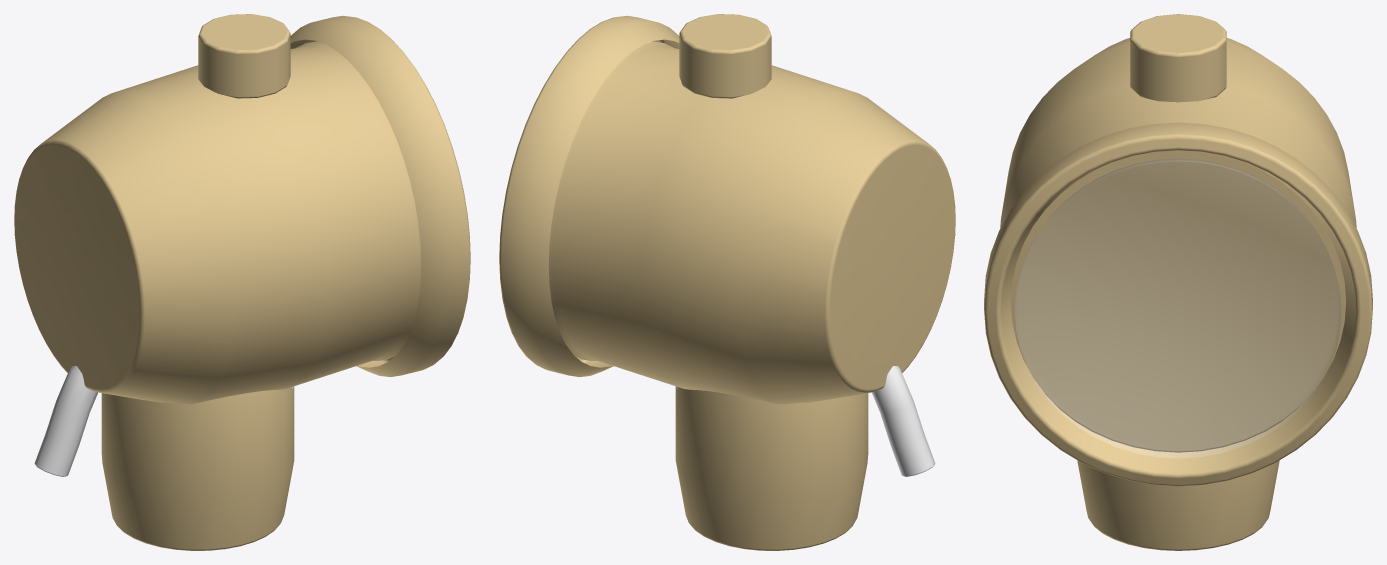
The model's file is bike_pioneer__headlight.glb.
3 views of the same model, side by side, from view 1: azimuth 30°, elevation 25°; view 2: azimuth 150°, elevation 25°; view 3: azimuth 270°, elevation 25° (orthographic). The views are drawn at different scales.
Parts seen in each view (by area): view 1: electrical__carbide_lamp, electrical__carbide_lamp__generator, electrical__carbide_lamp__bracket; view 2: electrical__carbide_lamp, electrical__carbide_lamp__generator, electrical__carbide_lamp__bracket; view 3: electrical__carbide_lamp, electrical__carbide_lamp__lens, electrical__carbide_lamp__generator.
Part boxes in pixels (x1=…): electrical__carbide_lamp: x1=14, y1=14, x2=470, y2=404; electrical__carbide_lamp__generator: x1=101, y1=386, x2=294, y2=550; electrical__carbide_lamp__bracket: x1=34, y1=366, x2=293, y2=476; electrical__carbide_lamp: x1=499, y1=14, x2=955, y2=404; electrical__carbide_lamp__generator: x1=675, y1=386, x2=868, y2=550; electrical__carbide_lamp__bracket: x1=676, y1=366, x2=935, y2=476; electrical__carbide_lamp: x1=984, y1=14, x2=1372, y2=486; electrical__carbide_lamp__lens: x1=1015, y1=158, x2=1341, y2=458; electrical__carbide_lamp__generator: x1=1077, y1=460, x2=1279, y2=550.
Bounding box in the file's own units: 11.17 × 14.8 × 10.2.
